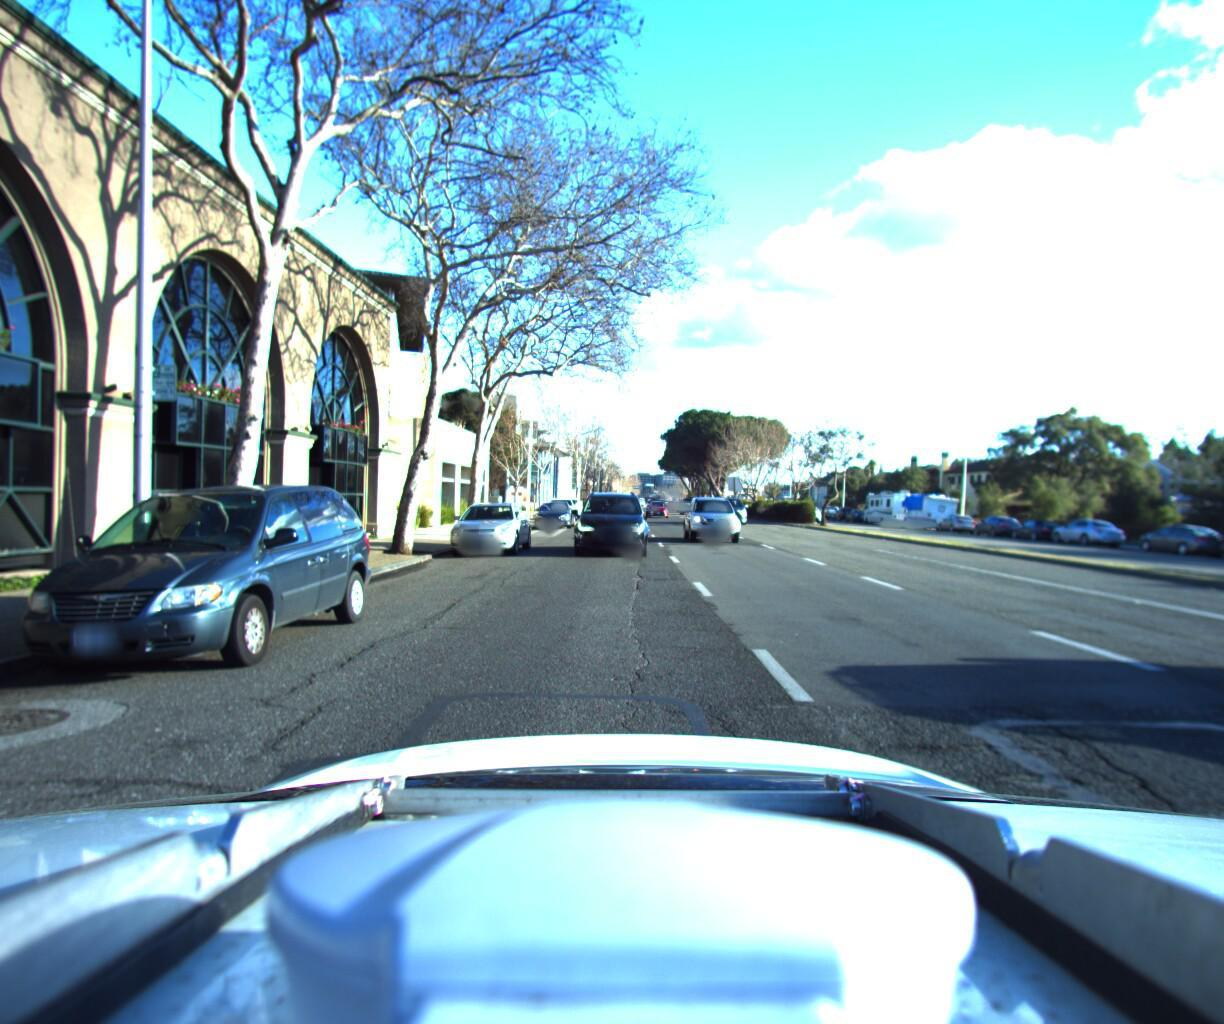car: (0, 465, 397, 701), (571, 478, 649, 555), (446, 492, 537, 555), (1130, 511, 1224, 552), (684, 485, 752, 540), (1043, 506, 1131, 541), (1009, 507, 1073, 535), (533, 490, 579, 522), (969, 505, 1029, 530), (715, 485, 759, 517), (545, 485, 580, 517), (936, 503, 980, 526), (553, 487, 586, 515), (1220, 513, 1224, 564)
other_vehicle: (896, 482, 964, 526), (860, 479, 925, 521)
